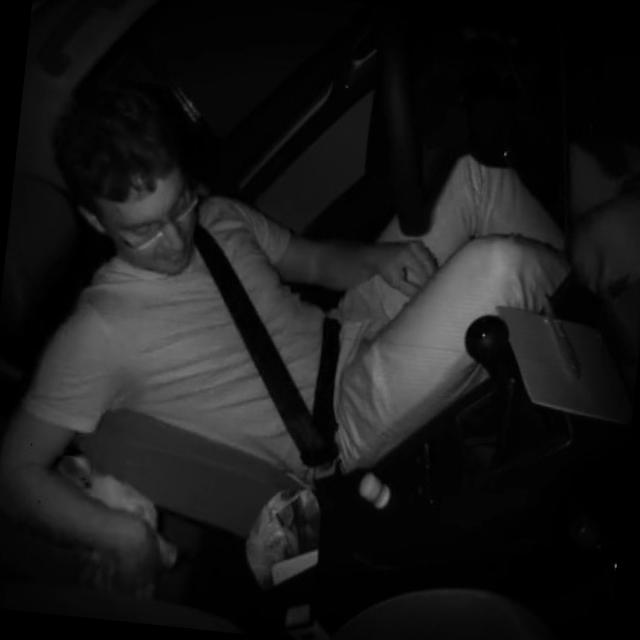pen: (530, 284, 592, 386)
